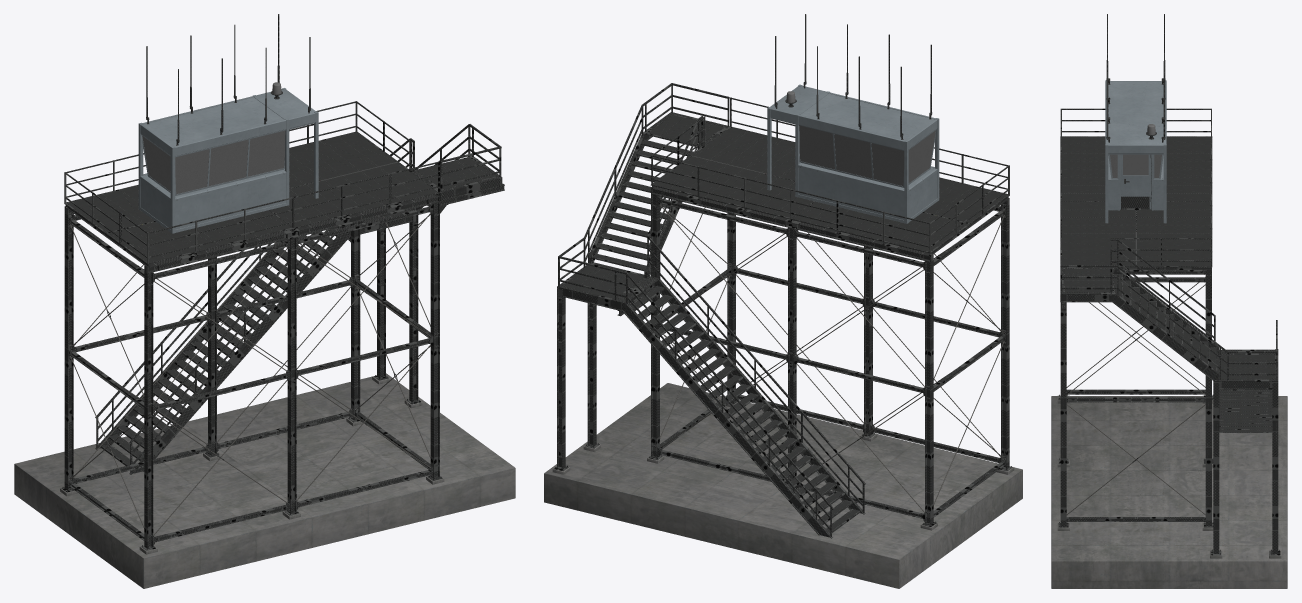
The model's file is SM_Watchtower.fbx.
3 views of the same model, side by side, from view 1: azimuth 30°, elevation 25°; view 2: azimuth 150°, elevation 25°; view 3: azimuth 270°, elevation 25° (orthographic). The views are drawn at different scales.
Parts seen in each view (by area): view 1: SM_Watchtower_LOD0; view 2: SM_Watchtower_LOD0; view 3: SM_Watchtower_LOD0.
Part boxes in pixels (box(x1,y1,x2,y2)): SM_Watchtower_LOD0: box(14, 14, 515, 588); SM_Watchtower_LOD0: box(544, 14, 1022, 588); SM_Watchtower_LOD0: box(1051, 14, 1287, 588).
Size of the model in its own units: 1273 by 768 by 1573.
Materials: 7 (6 with a texture image).
